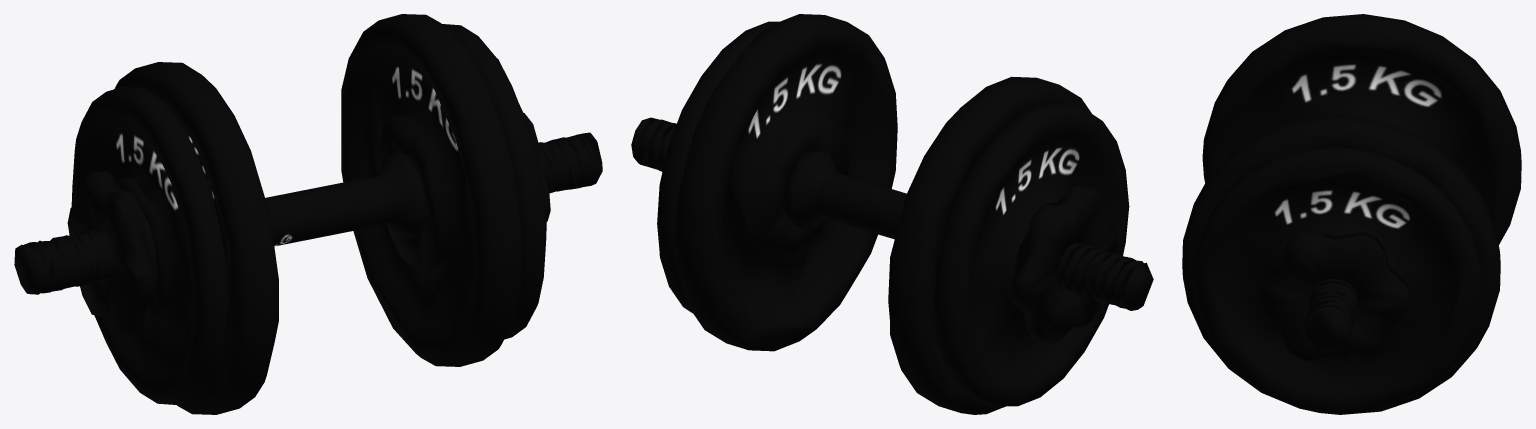
Rendered from sport_haltere.glb.
The picture shows the model from 3 angles, left to right: view 1: azimuth 30°, elevation 25°; view 2: azimuth 150°, elevation 25°; view 3: azimuth 270°, elevation 25°; orthographic projection. The views are drawn at different scales.
Parts seen in each view (by area): view 1: Object_2; view 2: Object_2; view 3: Object_2.
Boxes of the visible parts, x1,y1,x2,y2 form: Object_2: (14, 14, 602, 414); Object_2: (631, 14, 1153, 414); Object_2: (1182, 14, 1521, 414).
Bounding box in the file's own units: 0.4309 × 0.2458 × 0.2599.
1 material, 1 textured.
